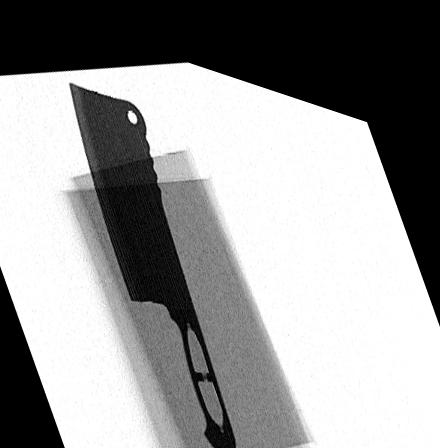Knife: (67, 76, 236, 443)
